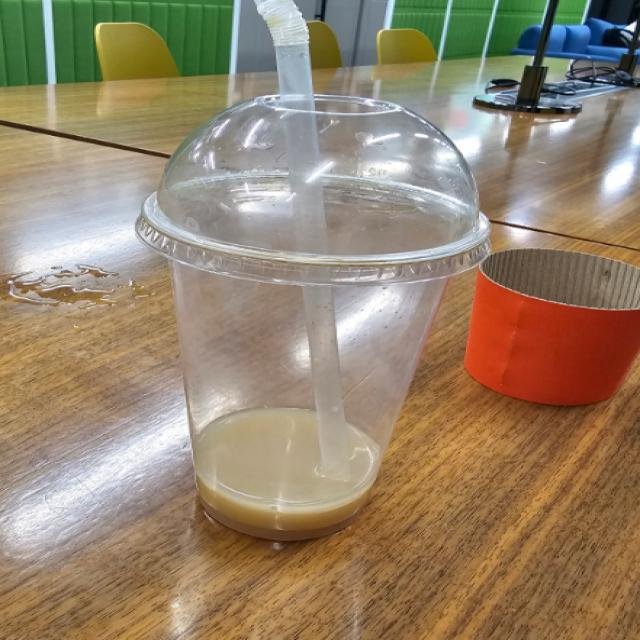bottle: (171, 250, 461, 540)
